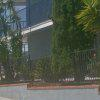Tree: (43, 4, 100, 69)
